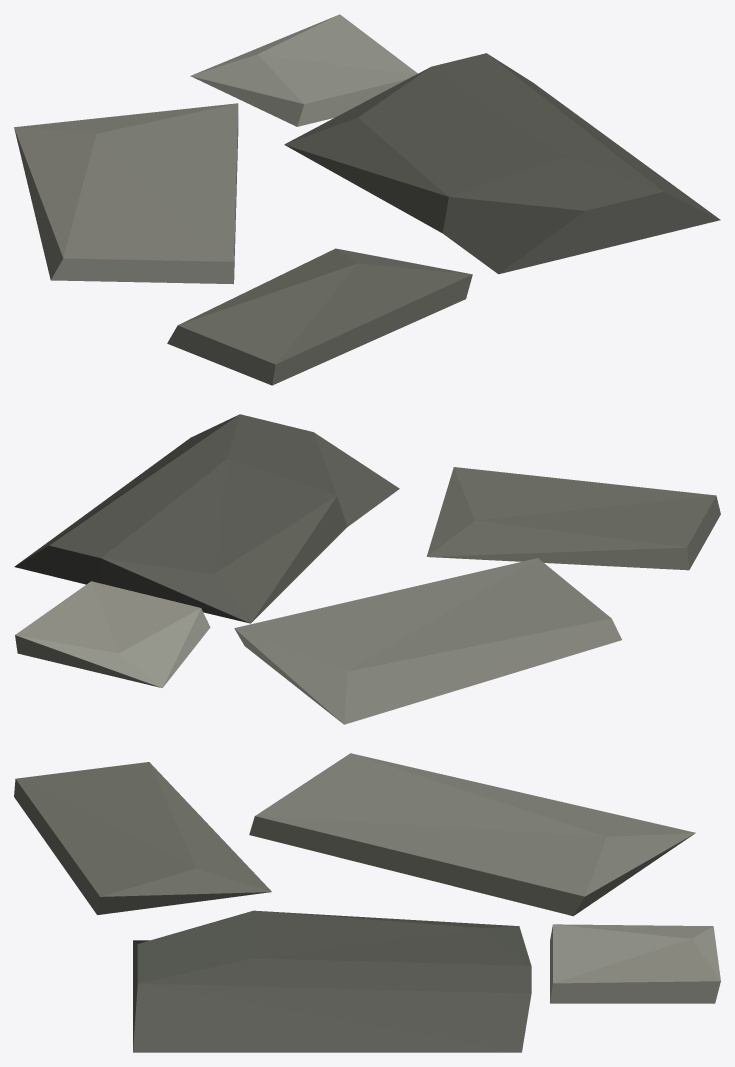
The model's file is DD_Stone.fbx.
3 renders of one model, top to bottom at view 1: azimuth 30°, elevation 25°; view 2: azimuth 150°, elevation 25°; view 3: azimuth 270°, elevation 25°, orthographic. The views are drawn at different scales.
Parts seen in each view (by area): view 1: DD_Stone; view 2: DD_Stone; view 3: DD_Stone.
Part boxes in pixels (bbox=[...]): DD_Stone: bbox=[14, 14, 720, 385]; DD_Stone: bbox=[14, 414, 720, 724]; DD_Stone: bbox=[14, 753, 720, 1052].
Size of the model in its own units: 58.53 by 4.34 by 61.29.
1 material, 1 textured.
